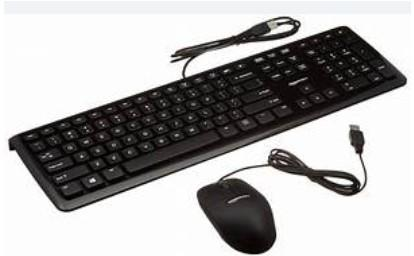Keyboard: (8, 26, 408, 213)
